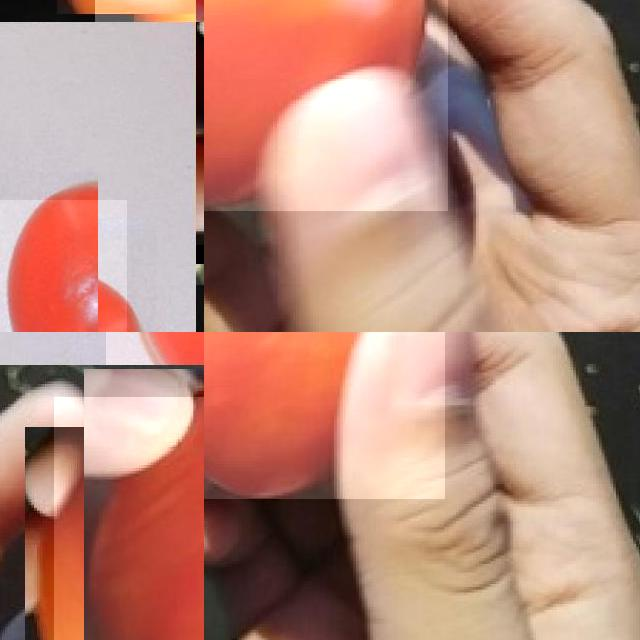0: (204, 0, 448, 211), (204, 332, 445, 499)
Fresh Tomato: (0, 200, 127, 332)
Rotten Tomato: (54, 397, 204, 640)
